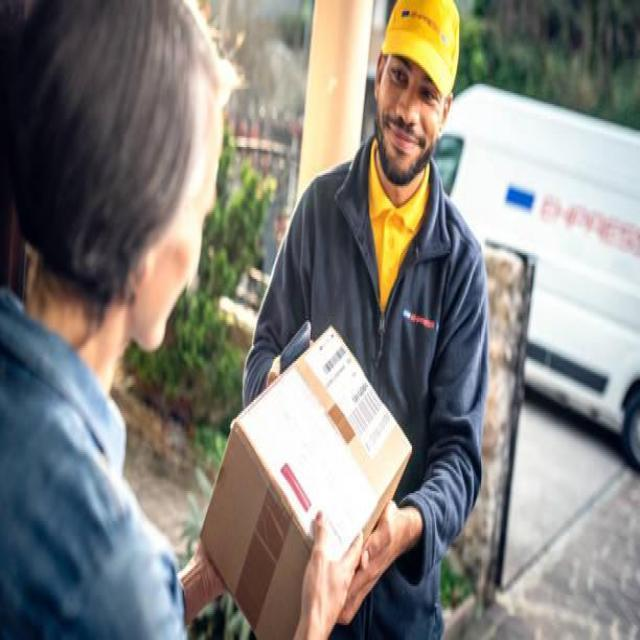box: (202, 322, 416, 640)
